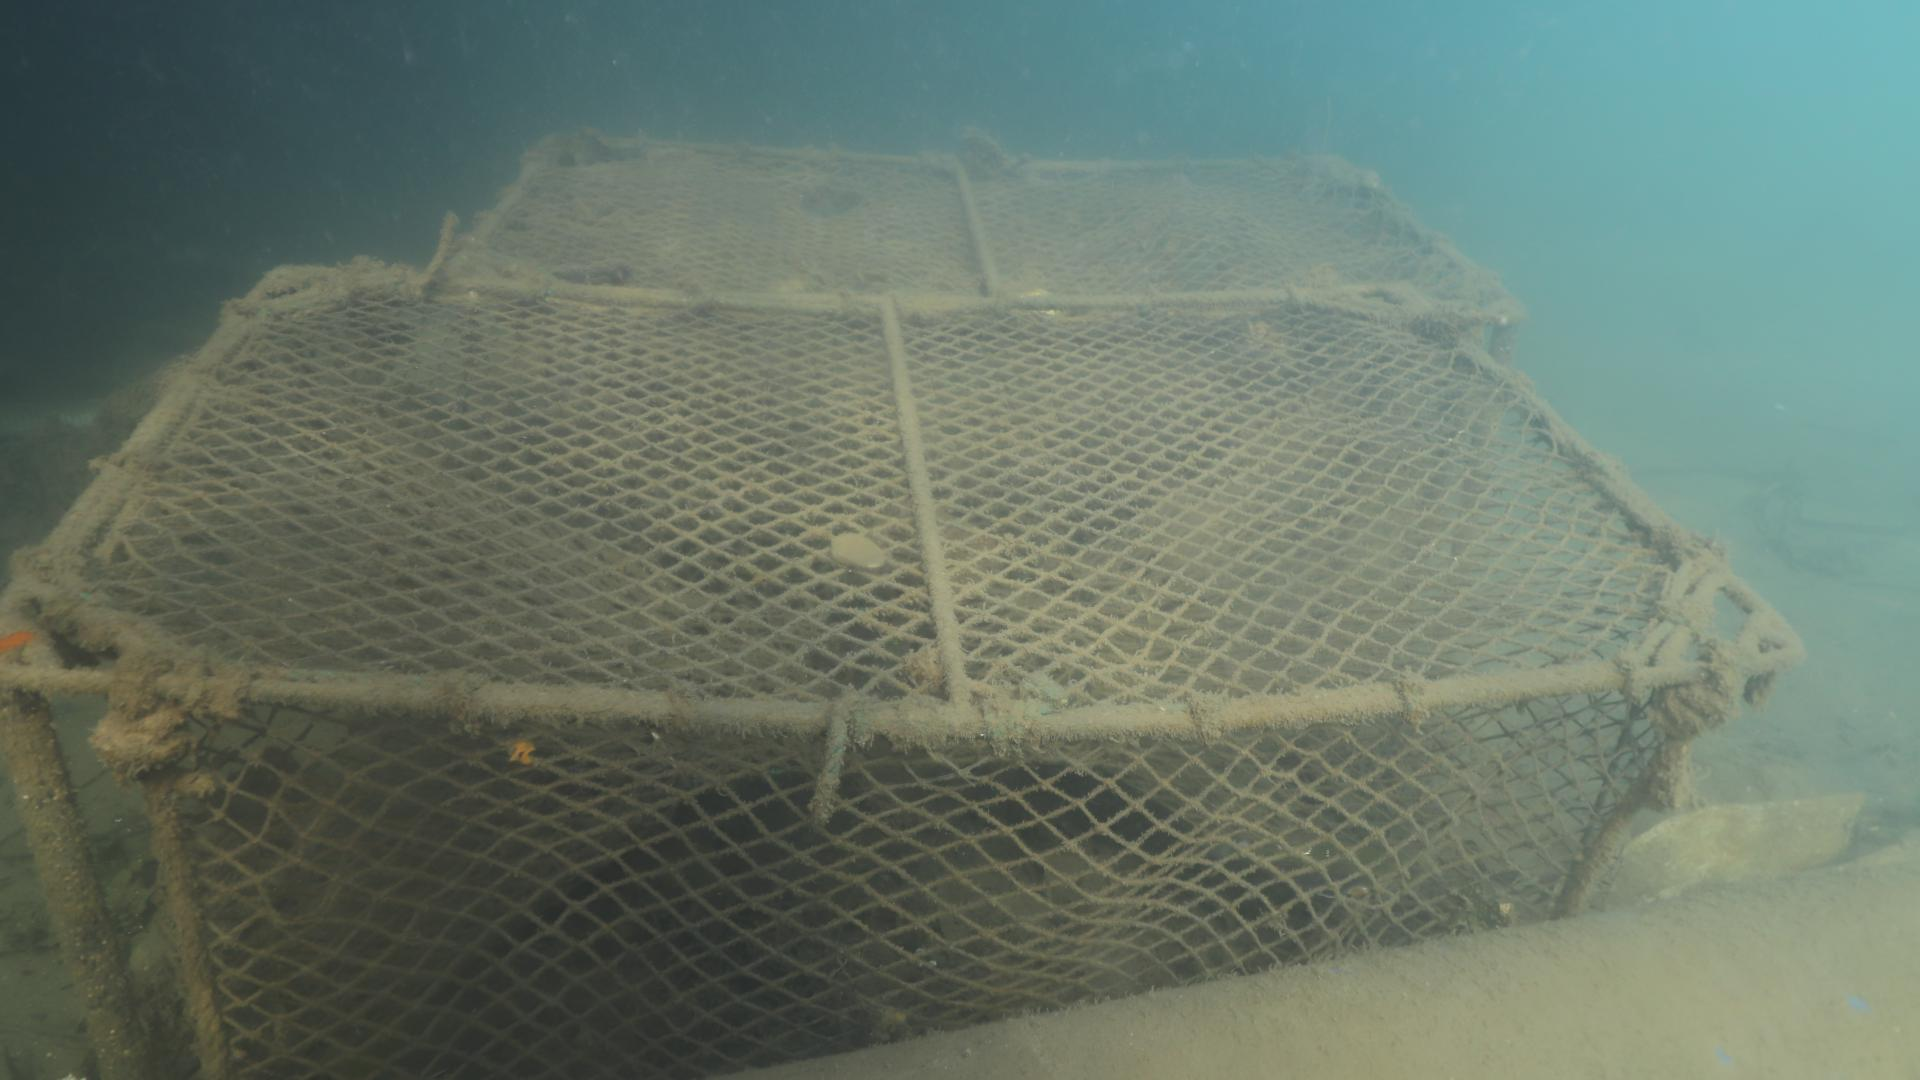rectangular fish trap: (0, 262, 1803, 1080), (425, 124, 1528, 386)
